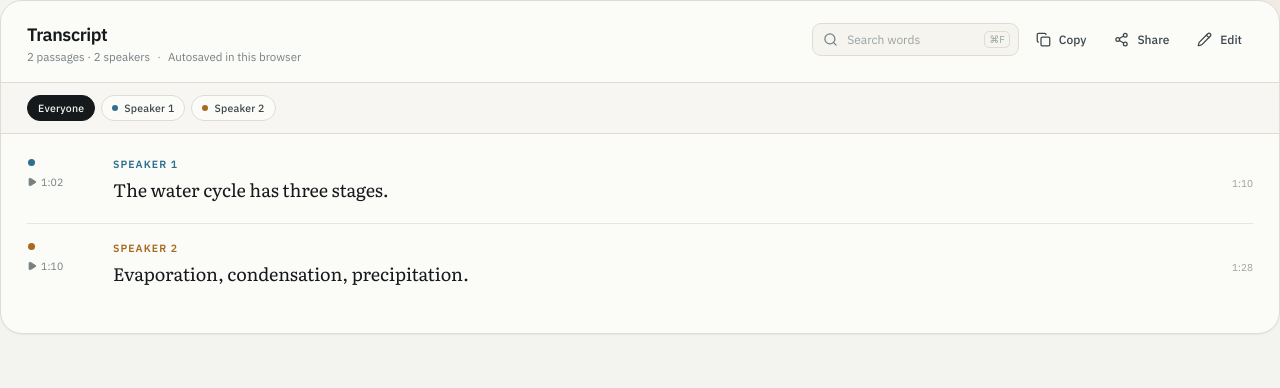
TranscriptView › rejects an invalid time without touching the session
Click the button "Edit" at (1220,40), box [1186,24,1253,56]
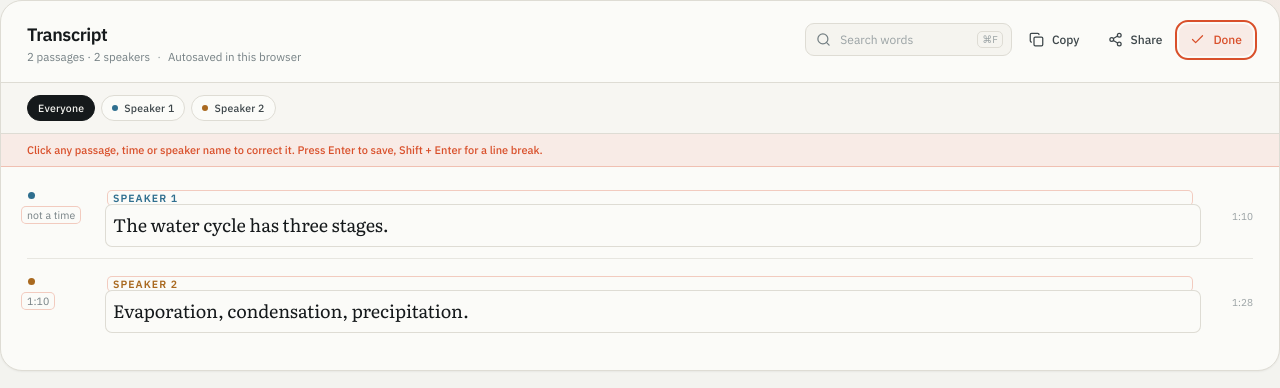
Leave the field with class "segment-time-edit" showing "not a time", box [21,206,81,224]
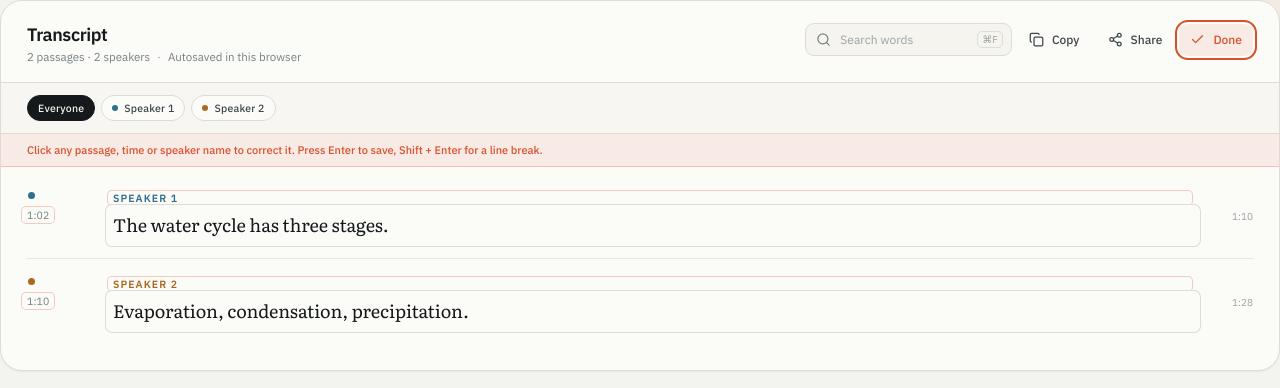
Result: the field with class "segment-time-edit" reads "1:02" at [21,206,55,224]
